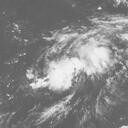cyclone: (42, 55, 73, 92)
